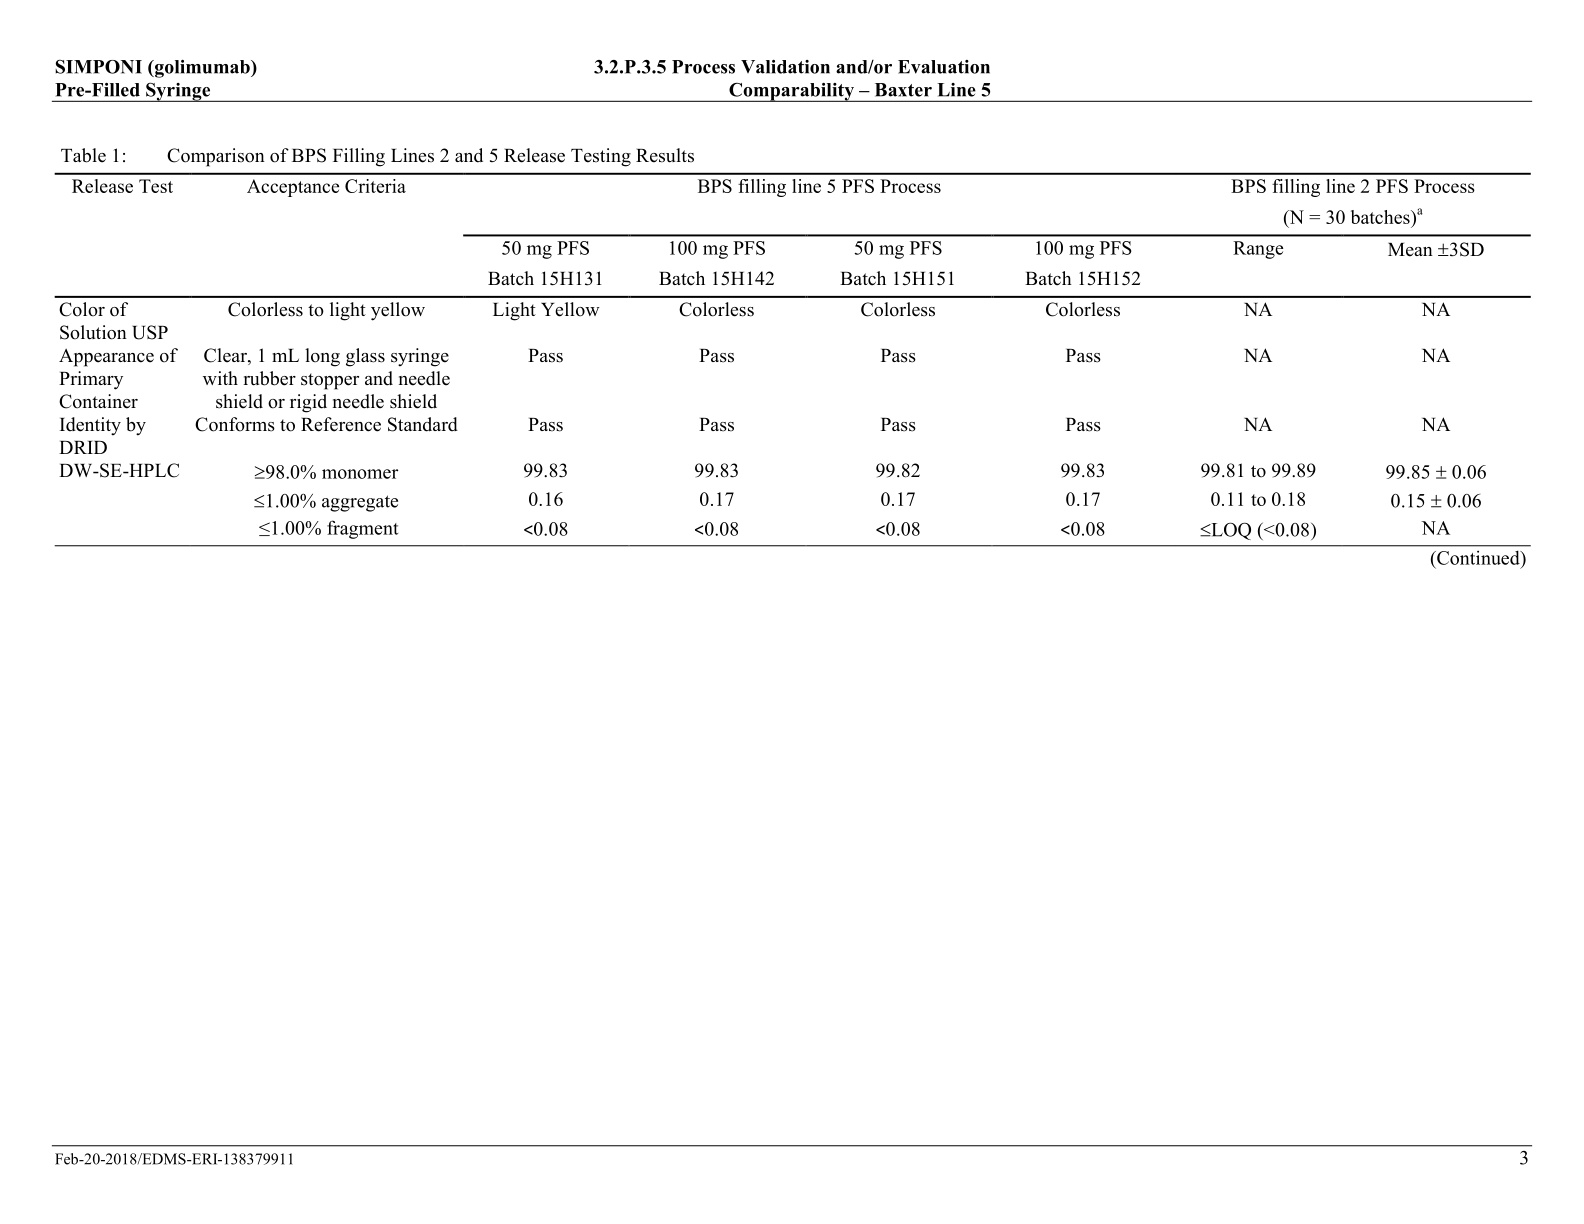partial_lined_merged_cells: (54, 171, 1531, 546)
